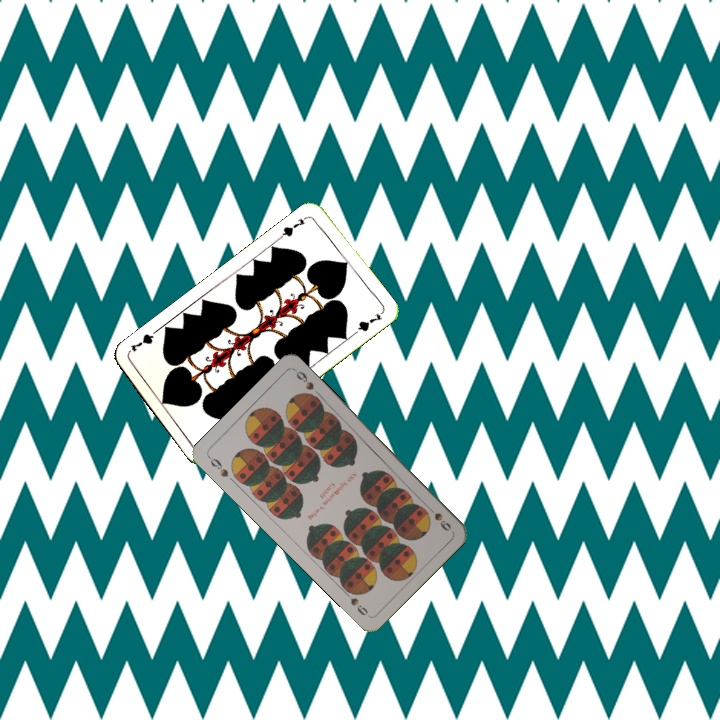G7: (276, 212, 311, 241)
S9: (422, 501, 454, 534), (204, 453, 231, 480)
